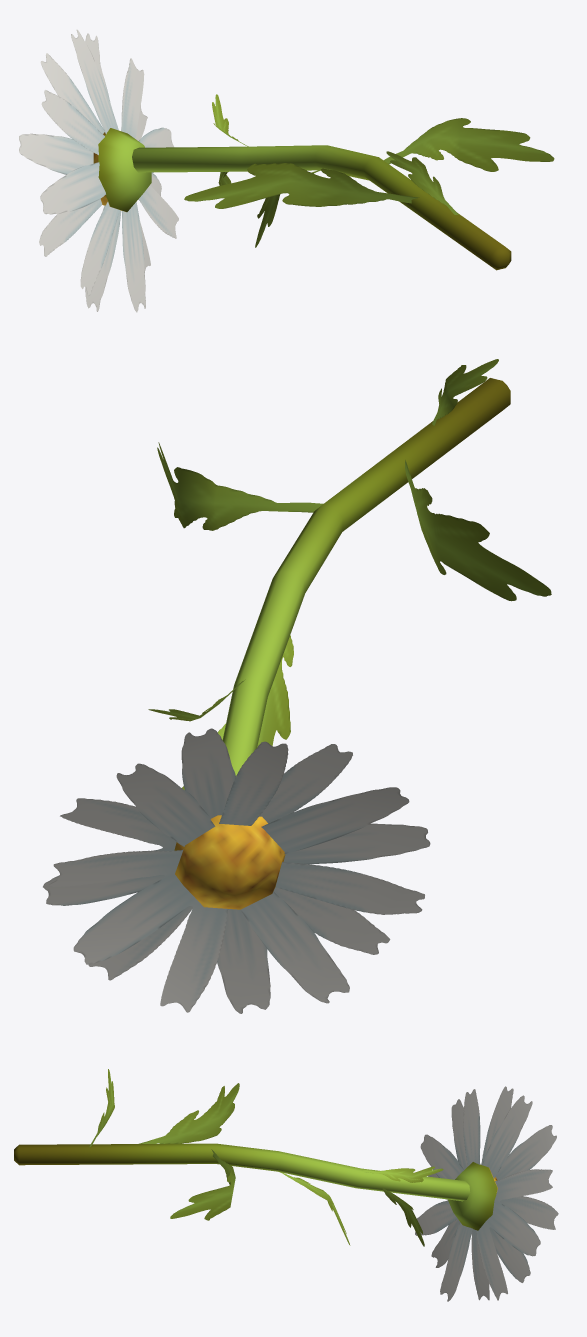
Rendered from SM_Daisy_Single.fbx.
3 views of the same model, one above another, from view 1: azimuth 30°, elevation 25°; view 2: azimuth 150°, elevation 25°; view 3: azimuth 270°, elevation 25° (orthographic). The views are drawn at different scales.
Parts seen in each view (by area): view 1: Daisy_Single; view 2: Daisy_Single; view 3: Daisy_Single.
Part boxes in pixels (box(x1,y1,x2,y2)): Daisy_Single: box(19, 29, 554, 312); Daisy_Single: box(43, 359, 551, 1013); Daisy_Single: box(14, 1069, 558, 1301).
Size of the model in its own units: 49.99 by 39.73 by 78.79.
